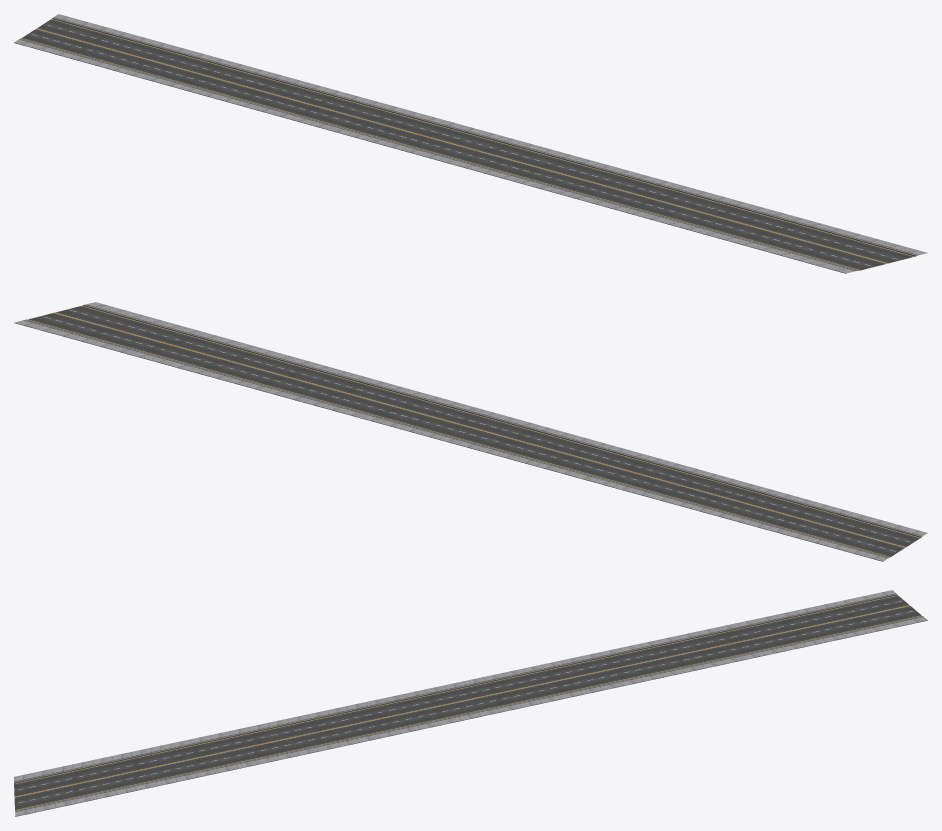
File: road19.glb
The picture shows the model from 3 angles, top to bottom: view 1: azimuth 30°, elevation 25°; view 2: azimuth 210°, elevation 25°; view 3: azimuth 270°, elevation 25°; orthographic projection.
Parts seen in each view (by area): view 1: Road_4X_Straight_City_Road_mat_0.008; view 2: Road_4X_Straight_City_Road_mat_0.008; view 3: Road_4X_Straight_City_Road_mat_0.008.
Part boxes in pixels (x1,y1,x2,y2): Road_4X_Straight_City_Road_mat_0.008: [14, 14, 927, 273]; Road_4X_Straight_City_Road_mat_0.008: [14, 302, 927, 561]; Road_4X_Straight_City_Road_mat_0.008: [14, 590, 927, 816].
Bounding box in the file's own units: 203 × 0.1636 × 347.
1 material, 1 textured.
